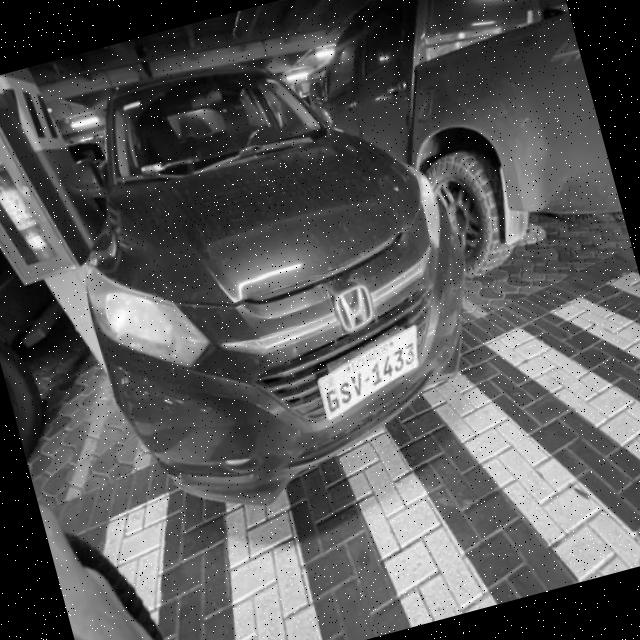Placa: (317, 326, 416, 417)
